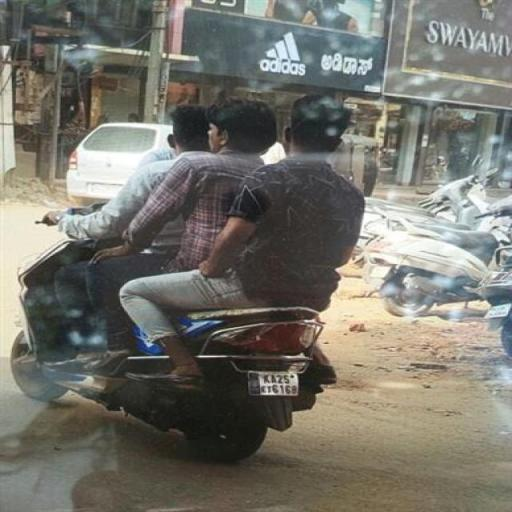tripple riding: (10, 89, 384, 272)
